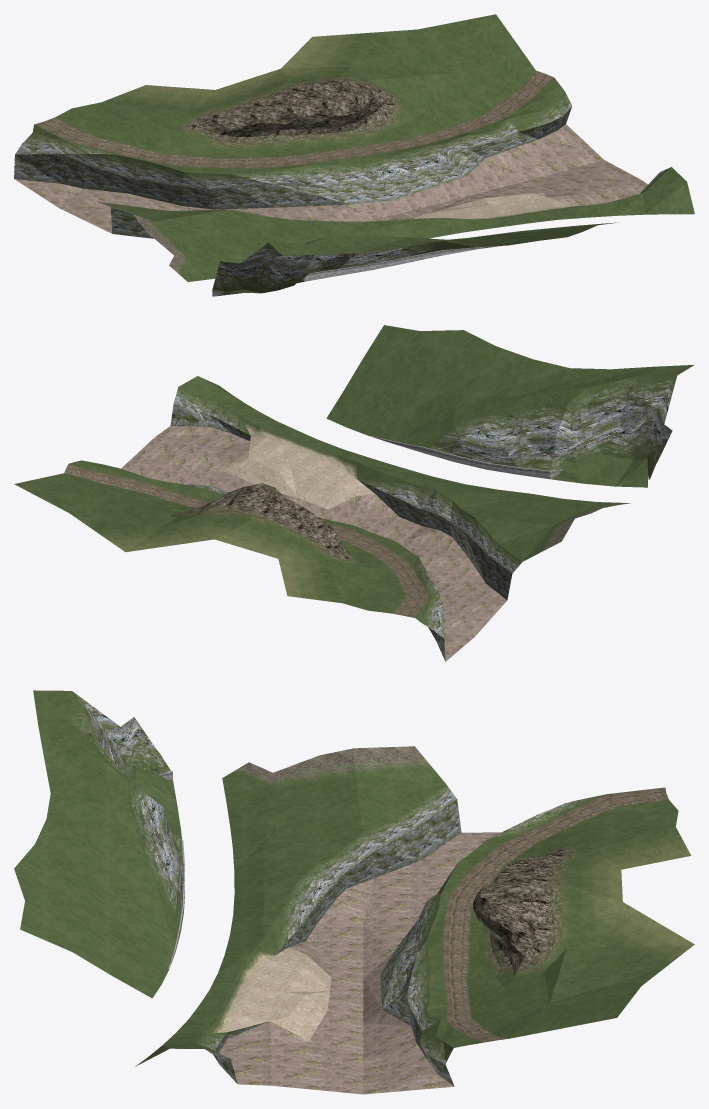
The model's file is cunteground19.obj.
3 renders of one model, top to bottom at view 1: azimuth 30°, elevation 25°; view 2: azimuth 150°, elevation 25°; view 3: azimuth 270°, elevation 25°, orthographic. The views are drawn at different scales.
Visible parts, largest first — view 1: cuntEground19; view 2: cuntEground19; view 3: cuntEground19.
Part boxes in pixels (x1,y1,x2,y2): cuntEground19: [14, 14, 694, 296]; cuntEground19: [14, 325, 693, 661]; cuntEground19: [14, 690, 694, 1094].
Bounding box in the file's own units: 267 × 65.16 × 276.
14 materials, 14 textured.
